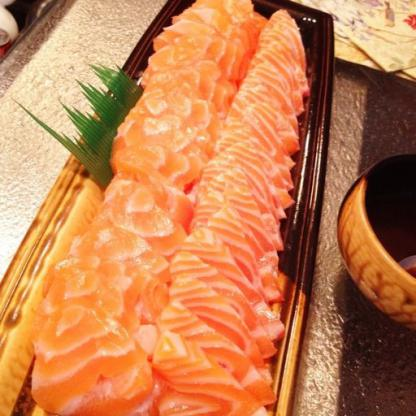salmon: (31, 1, 303, 415)
